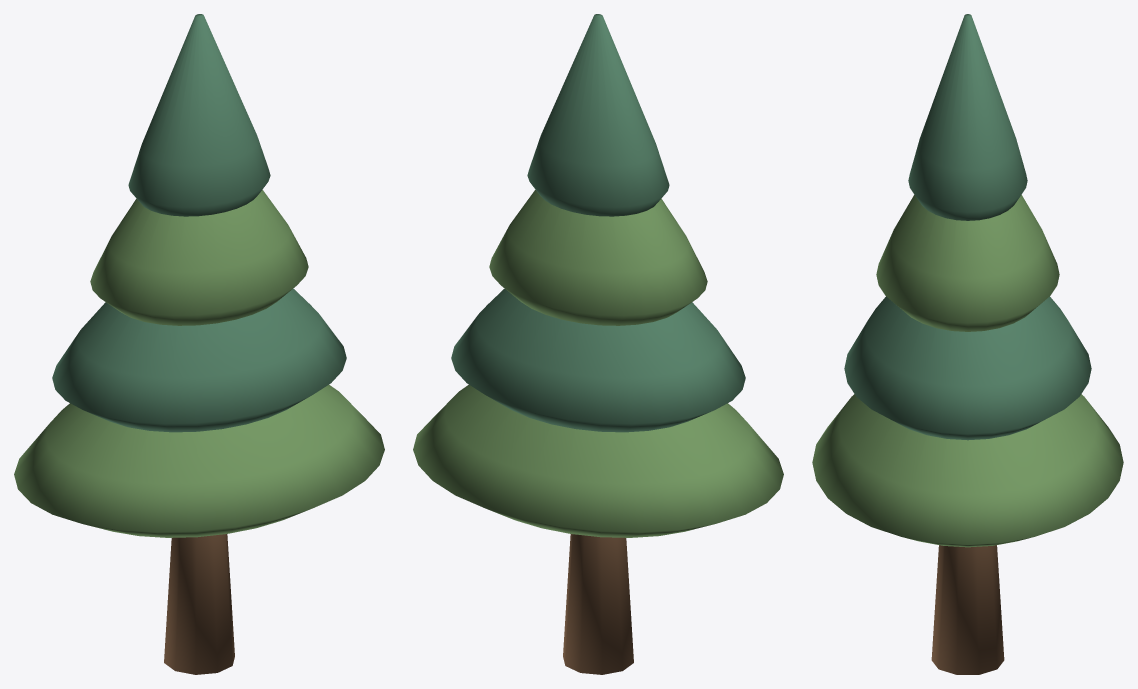
File: pine.glb
3 views of the same model, side by side, from view 1: azimuth 30°, elevation 25°; view 2: azimuth 150°, elevation 25°; view 3: azimuth 270°, elevation 25° (orthographic).
Parts seen in each view (by area): view 1: pine_World_Mesh; view 2: pine_World_Mesh; view 3: pine_World_Mesh.
Boxes of the visible parts, x1,y1,x2,y2 form: pine_World_Mesh: [14, 14, 384, 674]; pine_World_Mesh: [413, 14, 783, 674]; pine_World_Mesh: [812, 14, 1123, 674].
Bounding box in the file's own units: 2.14 × 3.91 × 1.71.
